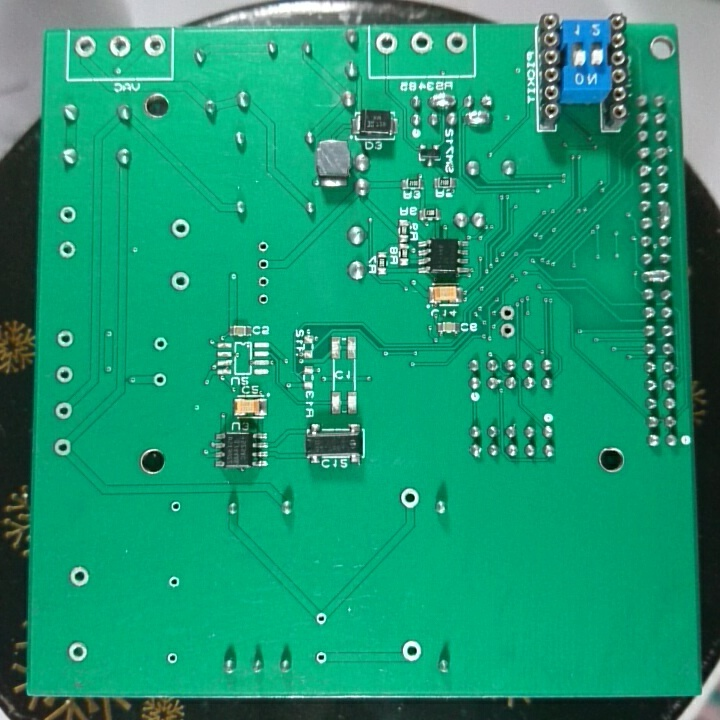F: (64, 638, 93, 668), (141, 31, 168, 60), (71, 33, 98, 60), (409, 28, 434, 56), (399, 638, 425, 664), (66, 564, 92, 590), (107, 34, 134, 59), (374, 31, 399, 56), (443, 29, 467, 55), (398, 486, 422, 511), (168, 217, 193, 240), (57, 202, 80, 226), (168, 269, 191, 292), (54, 326, 76, 349), (54, 363, 75, 387), (53, 399, 74, 423), (57, 238, 77, 263), (53, 435, 74, 458), (151, 368, 169, 392), (151, 334, 171, 355), (497, 301, 518, 321), (497, 321, 518, 340), (254, 255, 274, 272), (255, 273, 274, 290), (165, 573, 182, 592), (168, 496, 183, 517), (255, 289, 271, 308), (163, 649, 179, 667), (314, 647, 329, 666), (314, 609, 328, 629), (255, 238, 271, 255)
P: (462, 108, 494, 128), (428, 91, 459, 110), (640, 267, 671, 285), (656, 198, 671, 231)
